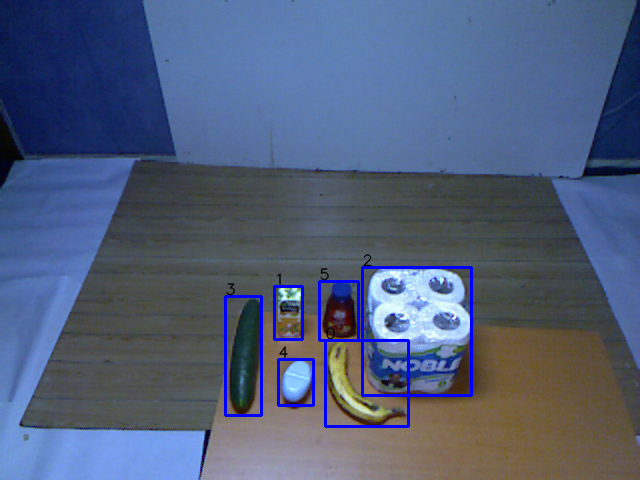confort: (363, 260, 479, 402)
jabon: (278, 356, 317, 411)
jugoind: (273, 280, 308, 339)
ketchup: (319, 278, 361, 341)
pepino: (227, 296, 267, 421)
platano: (323, 334, 410, 434)
